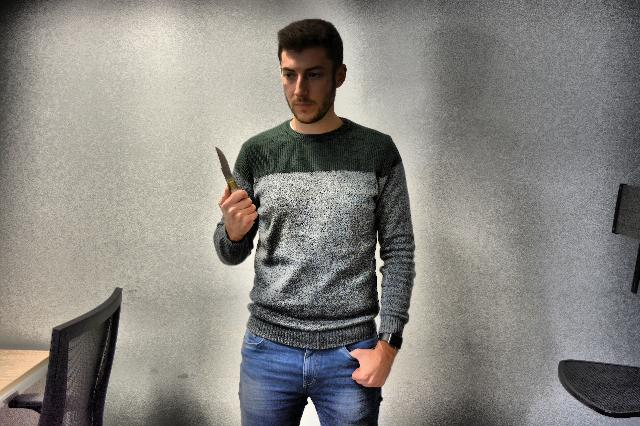knife: (212, 144, 250, 204)
